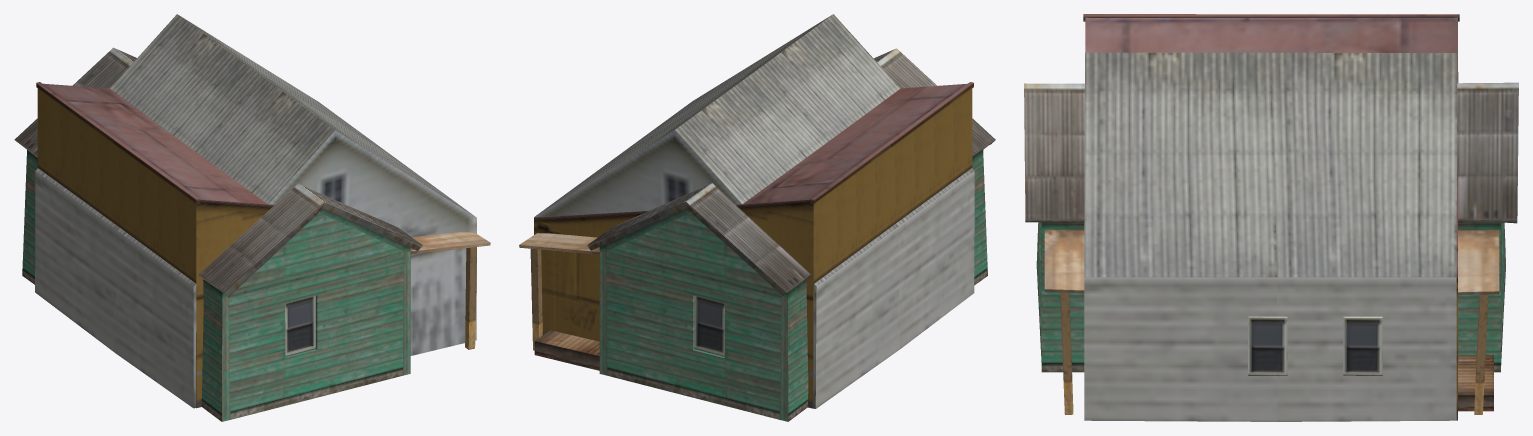
File: outpost.glb
3 views of the same model, side by side, from view 1: azimuth 30°, elevation 25°; view 2: azimuth 150°, elevation 25°; view 3: azimuth 270°, elevation 25° (orthographic). The views are drawn at different scales.
Parts seen in each view (by area): view 1: barn03_elements_0, house01_elements_0, barrack04_elements_0, house01_roof_elements_0; view 2: barn03_elements_0, house01_elements_0, barrack04_elements_0, house01_roof_elements_0, house01_add_elements_0; view 3: barn03_elements_0, house01_elements_0, barrack04_elements_0, house01_roof_elements_0, house01_add_elements_0.
Boxes of the visible parts, left/top/right/bottom form: barn03_elements_0: left=35, top=14, right=476, bottom=408; house01_elements_0: left=14, top=47, right=422, bottom=421; barrack04_elements_0: left=36, top=82, right=274, bottom=408; house01_roof_elements_0: left=410, top=231, right=490, bottom=349; barn03_elements_0: left=534, top=14, right=974, bottom=408; house01_elements_0: left=587, top=48, right=995, bottom=421; barrack04_elements_0: left=534, top=82, right=973, bottom=408; house01_roof_elements_0: left=519, top=233, right=599, bottom=350; house01_add_elements_0: left=534, top=330, right=599, bottom=370; barn03_elements_0: left=1084, top=52, right=1457, bottom=421; house01_elements_0: left=1024, top=82, right=1518, bottom=372; barrack04_elements_0: left=1083, top=14, right=1459, bottom=420; house01_roof_elements_0: left=1044, top=230, right=1499, bottom=414; house01_add_elements_0: left=1458, top=355, right=1493, bottom=411.
Size of the model in its own units: 1.18 by 0.9601 by 1.5.
1 material, 1 textured.
